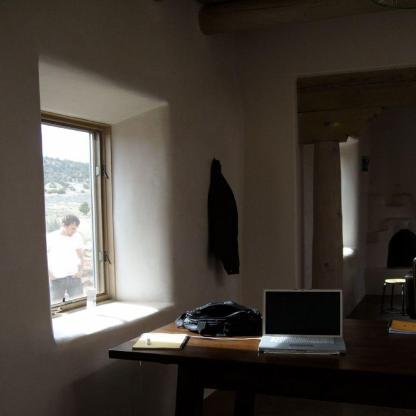board: (254, 285, 343, 360)
